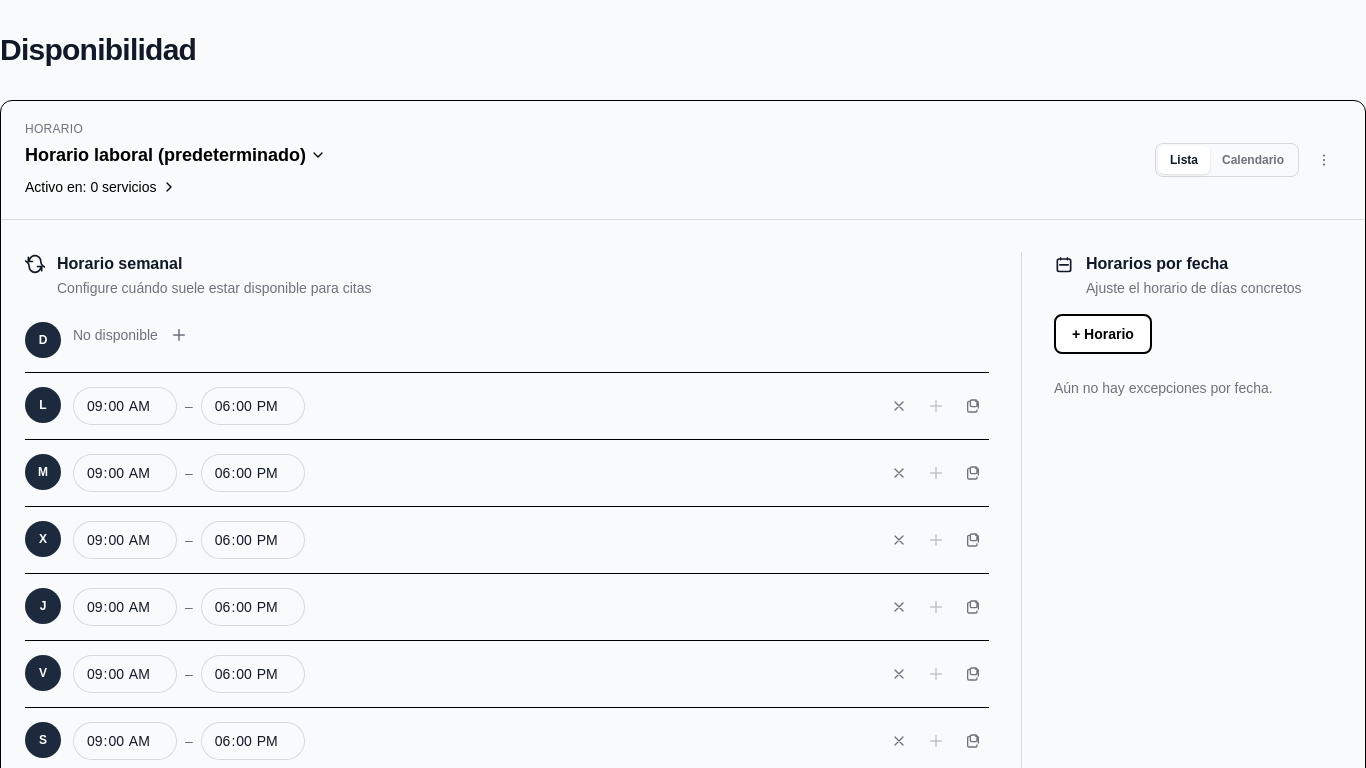
AdminAvailabilityPage › weekly hours › copies hours from one day to others before saving
Expected: the heading "Horario semanal" is shown, 57,255 -> 182,272
Step 1. Replace the text in the time field with id "from-mon" with "08:30" → coordinates (125, 406), box 73,387 -> 177,425
Step 2. Replace the text in the time field with id "to-mon" with "12:30" → coordinates (253, 406), box 201,387 -> 305,425
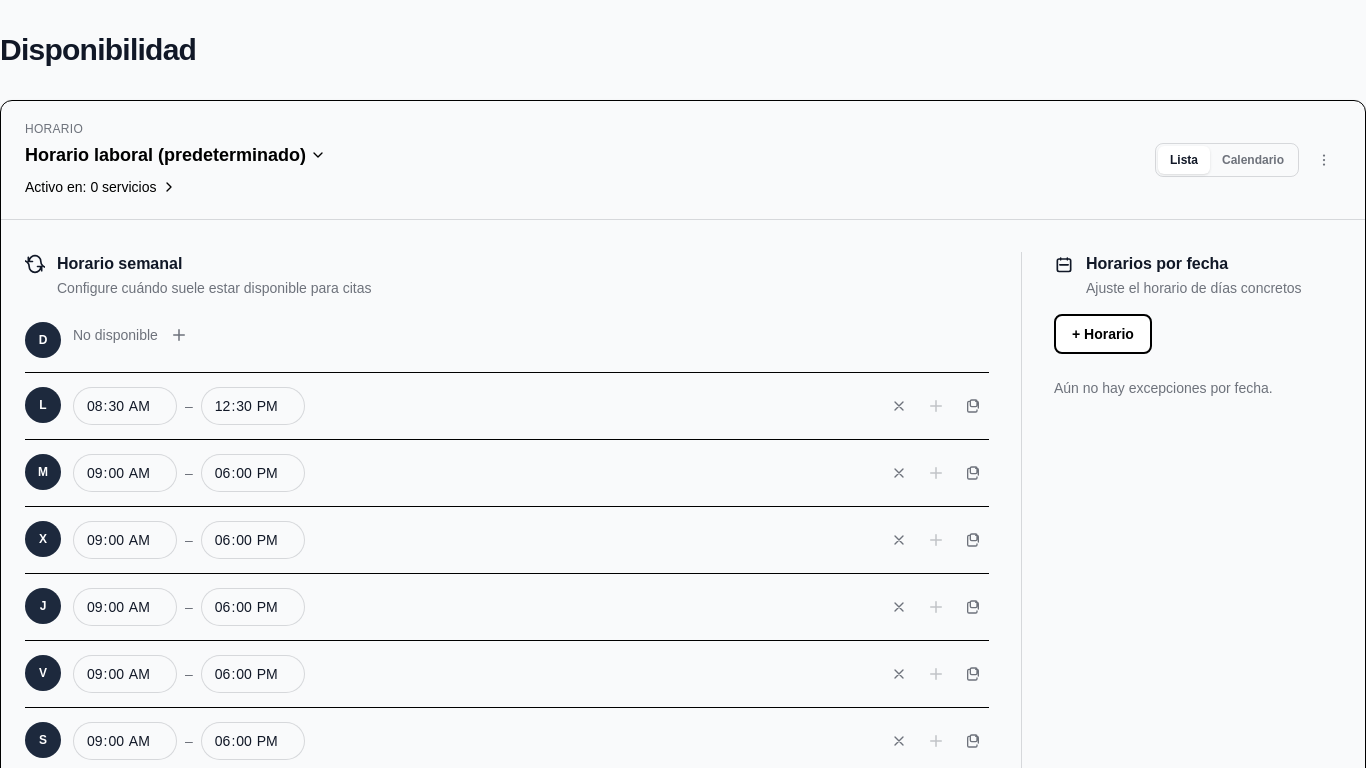
Step 3. Click the button named "Copiar el horario de Lunes a otros días" → coordinates (973, 406), box 957,390 -> 989,422
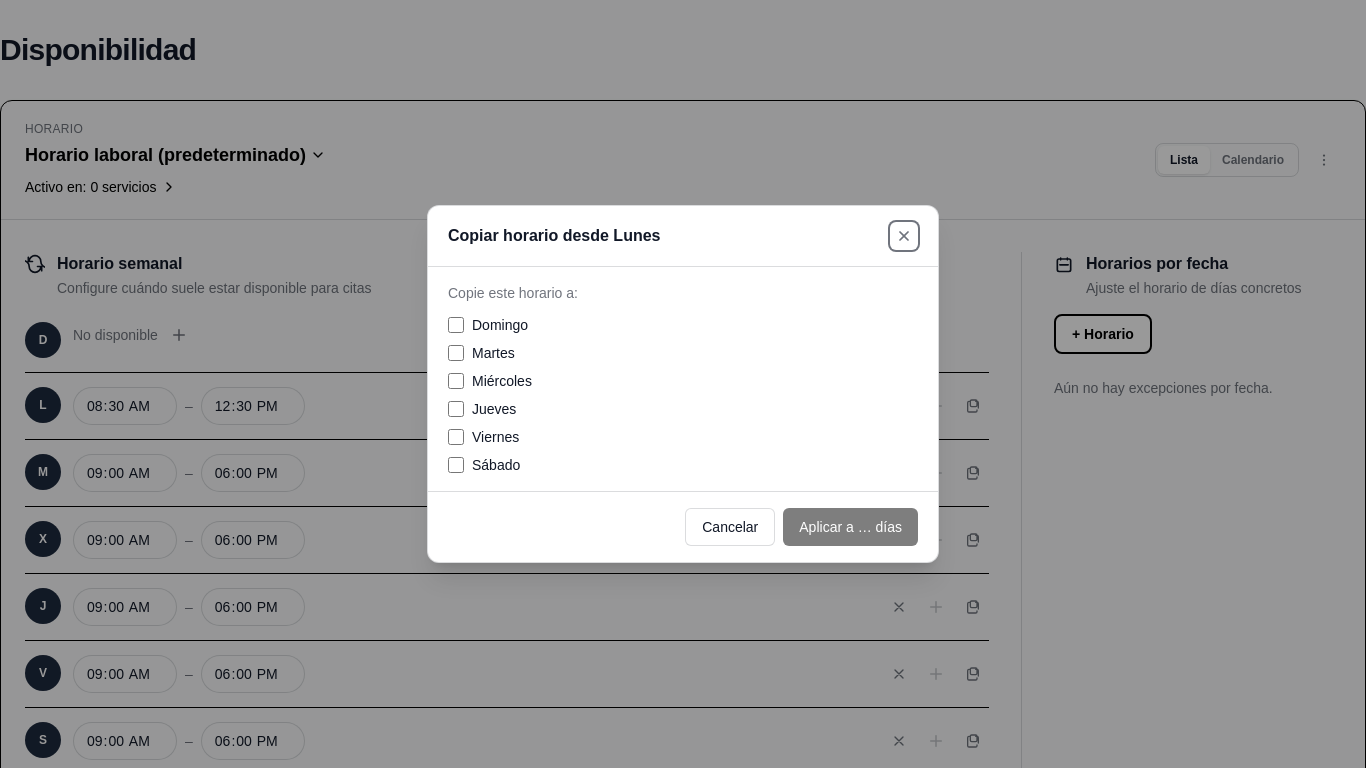
Step 4. Click the checkbox labelled "Martes" → coordinates (456, 353), box 448,345 -> 464,361
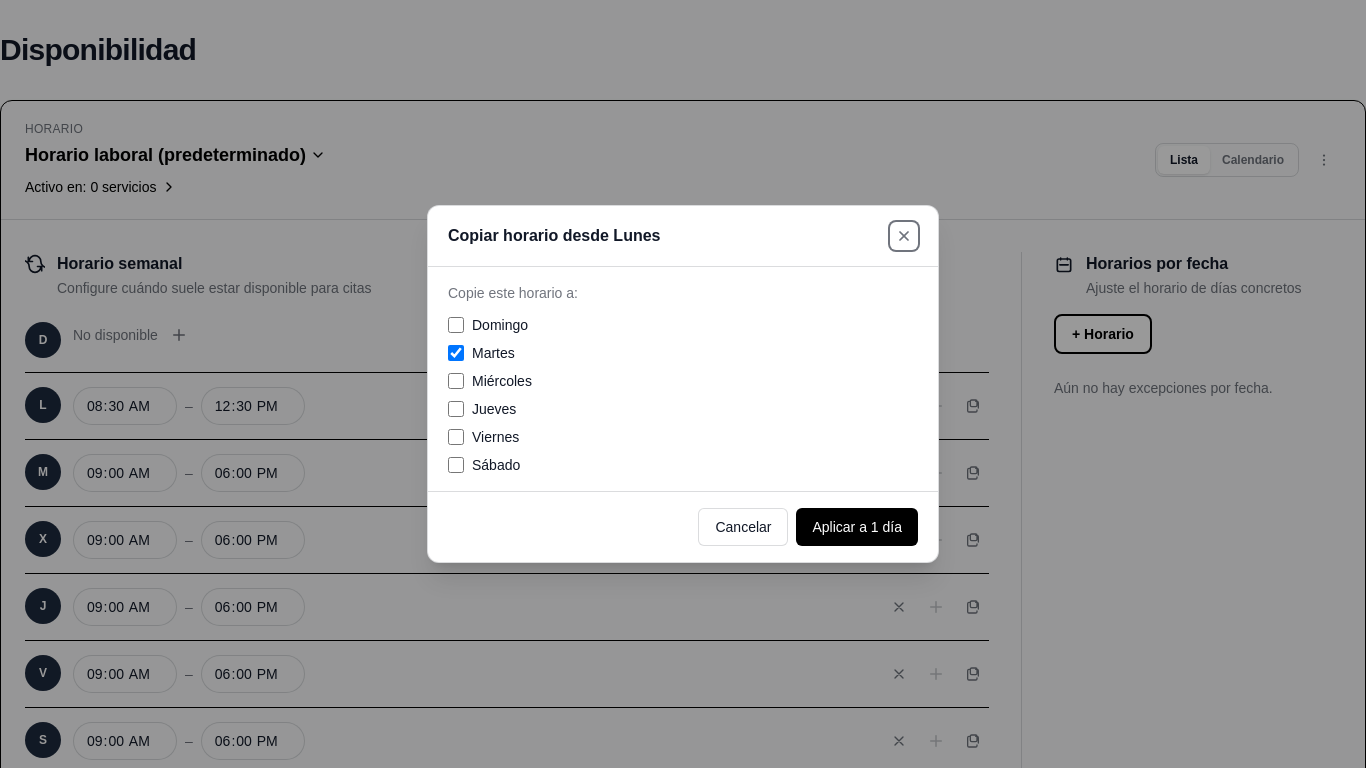
Step 5. Click the checkbox labelled "Miércoles" → coordinates (456, 381), box 448,373 -> 464,389
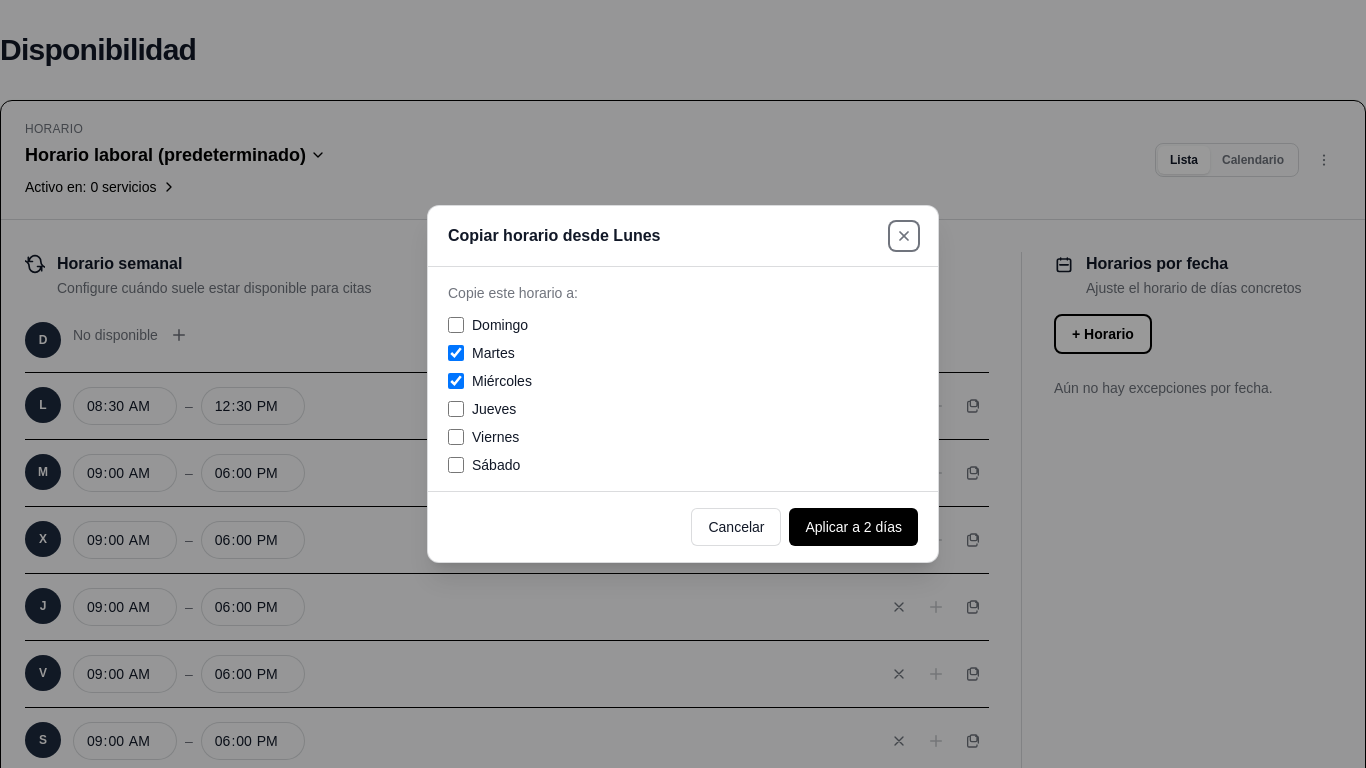
Step 6. Click the button "Aplicar a 2 días" → coordinates (854, 527), box 790,508 -> 918,546
(page scrolled)
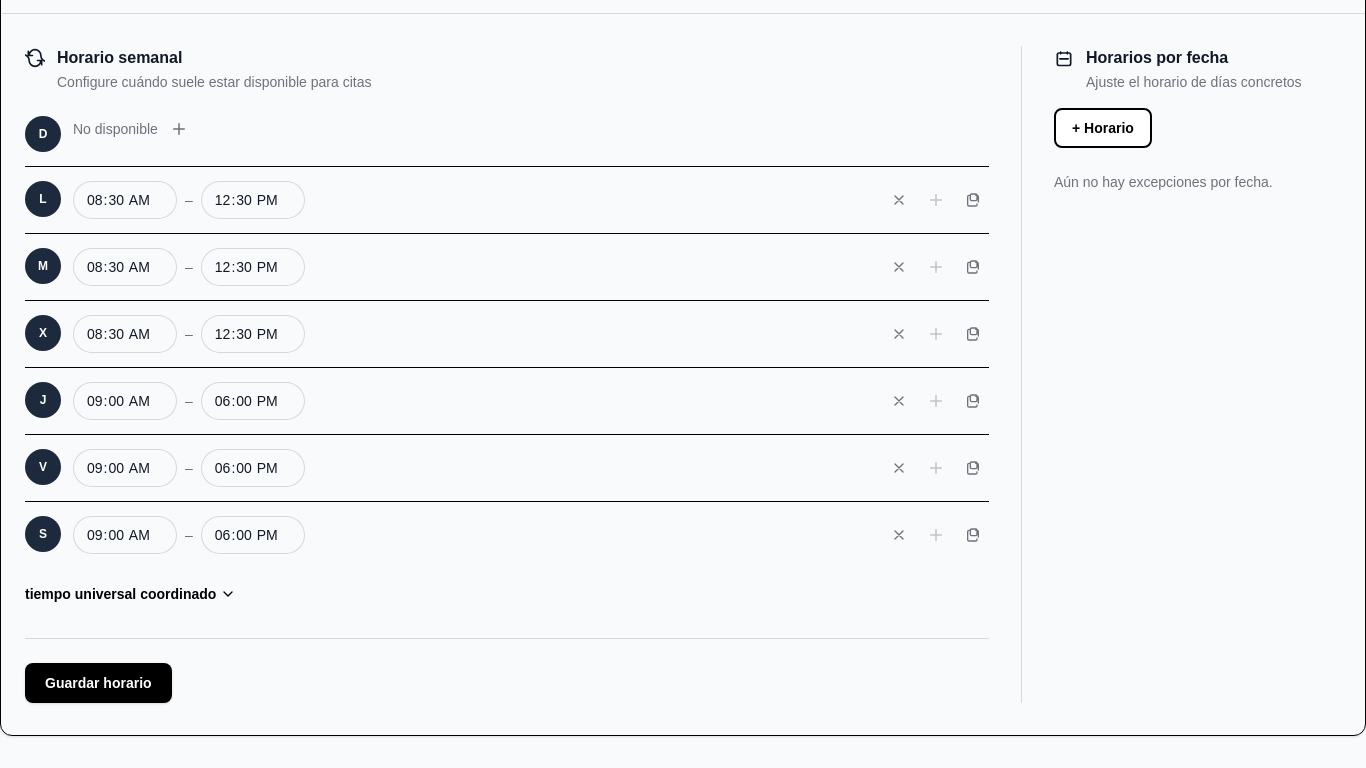
Now the time field with id "from-tue" holds "08:30", box 73,248 -> 177,286
Now the time field with id "to-wed" holds "12:30", box 201,315 -> 305,353
Step 7. Click the button "Guardar horario" → coordinates (98, 683), box 25,663 -> 172,703
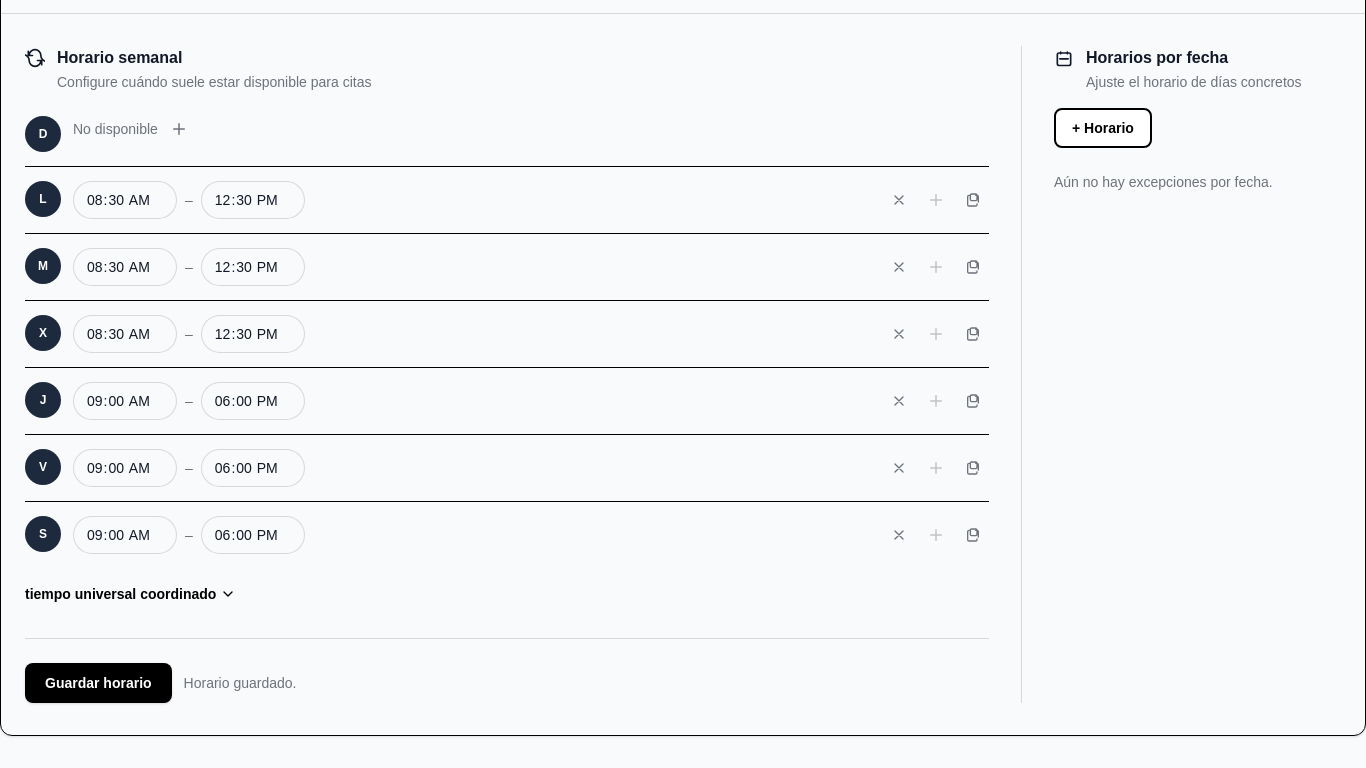
Now the message reads "Horario guardado.", box 184,675 -> 296,691
